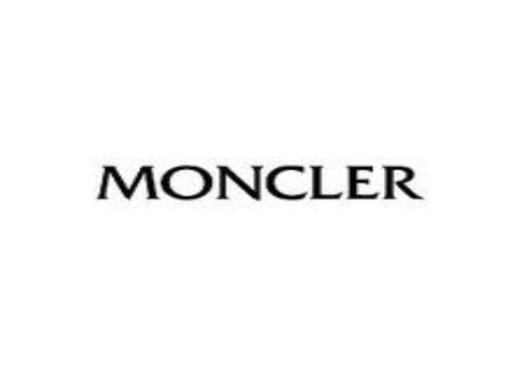MONCLER: (97, 159, 427, 204)
